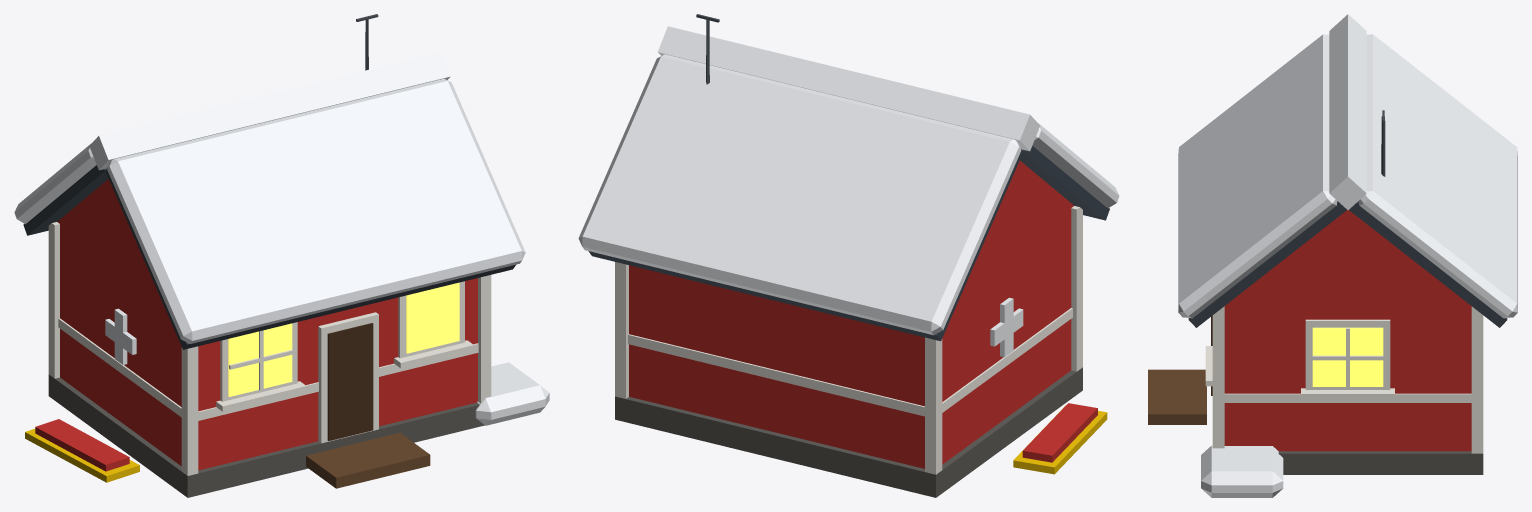
The model's file is patrol-hut.glb.
The picture shows the model from 3 angles, left to right: view 1: azimuth 30°, elevation 25°; view 2: azimuth 150°, elevation 25°; view 3: azimuth 270°, elevation 25°; orthographic projection. The views are drawn at different scales.
Parts seen in each view (by area): view 1: patrol-hut; view 2: patrol-hut; view 3: patrol-hut.
Boxes of the visible parts, left/top/right/bottom form: patrol-hut: left=14, top=14, right=549, bottom=497; patrol-hut: left=578, top=14, right=1119, bottom=497; patrol-hut: left=1148, top=14, right=1517, bottom=497.
Size of the model in its own units: 8.2 by 6.42 by 6.29.
